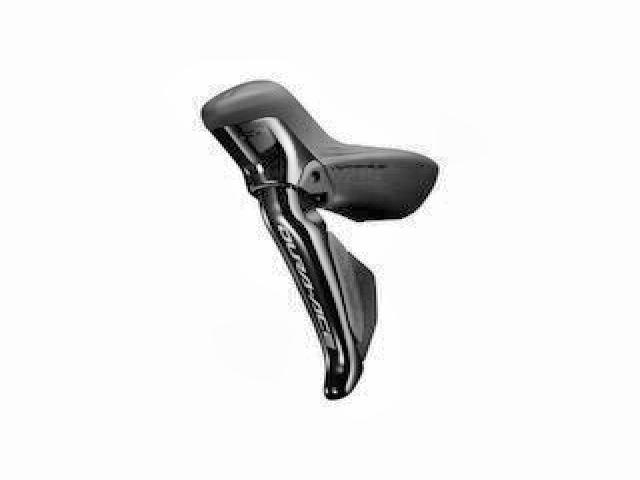sti_shifter: (202, 76, 436, 401)
